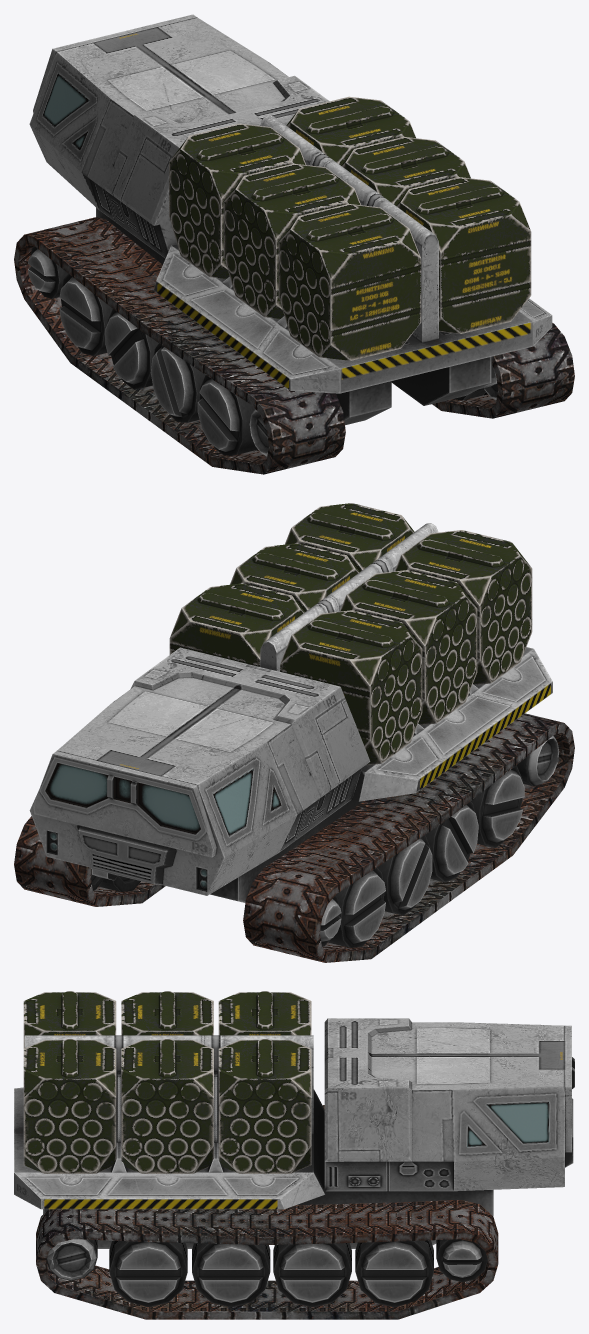
The picture shows the model from 3 angles, top to bottom: view 1: azimuth 30°, elevation 25°; view 2: azimuth 150°, elevation 25°; view 3: azimuth 270°, elevation 25°; orthographic projection. The views are drawn at different scales.
Visible parts, largest first — view 1: body, trackl, bed, ammo6, ammo5, ammo4, ammo2, trackr, ammo3, ammo1, wheel11, wheel10 (+4 smaller); view 2: body, trackl, ammo2, bed, ammo6, ammo4, ammo1, ammo5, ammo3, trackr, wheel8, wheel9 (+4 smaller); view 3: body, trackr, bed, ammo1, ammo5, ammo3, wheel2, wheel5, wheel3, wheel4, ammo6, ammo2 (+3 smaller).
Part boxes in pixels (x1,y1,x2,y2): body: [29, 14, 496, 425]; trackl: [14, 217, 345, 474]; bed: [153, 115, 552, 393]; ammo6: [278, 204, 421, 360]; ammo5: [396, 177, 531, 333]; ammo4: [223, 163, 360, 318]; ammo2: [169, 123, 305, 278]; trackr: [432, 323, 574, 418]; ammo3: [341, 137, 470, 205]; ammo1: [286, 96, 415, 165]; wheel11: [197, 375, 257, 456]; wheel10: [150, 343, 205, 422]; body: [29, 647, 370, 902]; trackl: [243, 713, 574, 962]; ammo2: [280, 610, 422, 765]; bed: [260, 523, 552, 801]; ammo6: [395, 530, 532, 685]; ammo4: [340, 570, 477, 725]; ammo1: [169, 583, 304, 666]; ammo5: [285, 503, 414, 571]; ammo3: [230, 543, 359, 611]; trackr: [14, 816, 165, 906]; wheel8: [328, 868, 385, 947]; wheel9: [377, 835, 432, 915]; body: [43, 1018, 574, 1248]; trackr: [36, 1200, 498, 1319]; bed: [14, 1035, 325, 1209]; ammo1: [218, 1039, 311, 1173]; ammo5: [23, 1039, 116, 1173]; ammo3: [121, 1039, 213, 1173]; wheel2: [355, 1240, 433, 1306]; wheel5: [109, 1240, 187, 1306]; wheel3: [273, 1243, 351, 1306]; wheel4: [192, 1243, 270, 1306]; ammo6: [23, 991, 116, 1048]; ammo2: [218, 991, 311, 1035].
Bounding box in the file's own units: 1034 × 1877 × 820.
1 material, 1 textured.
